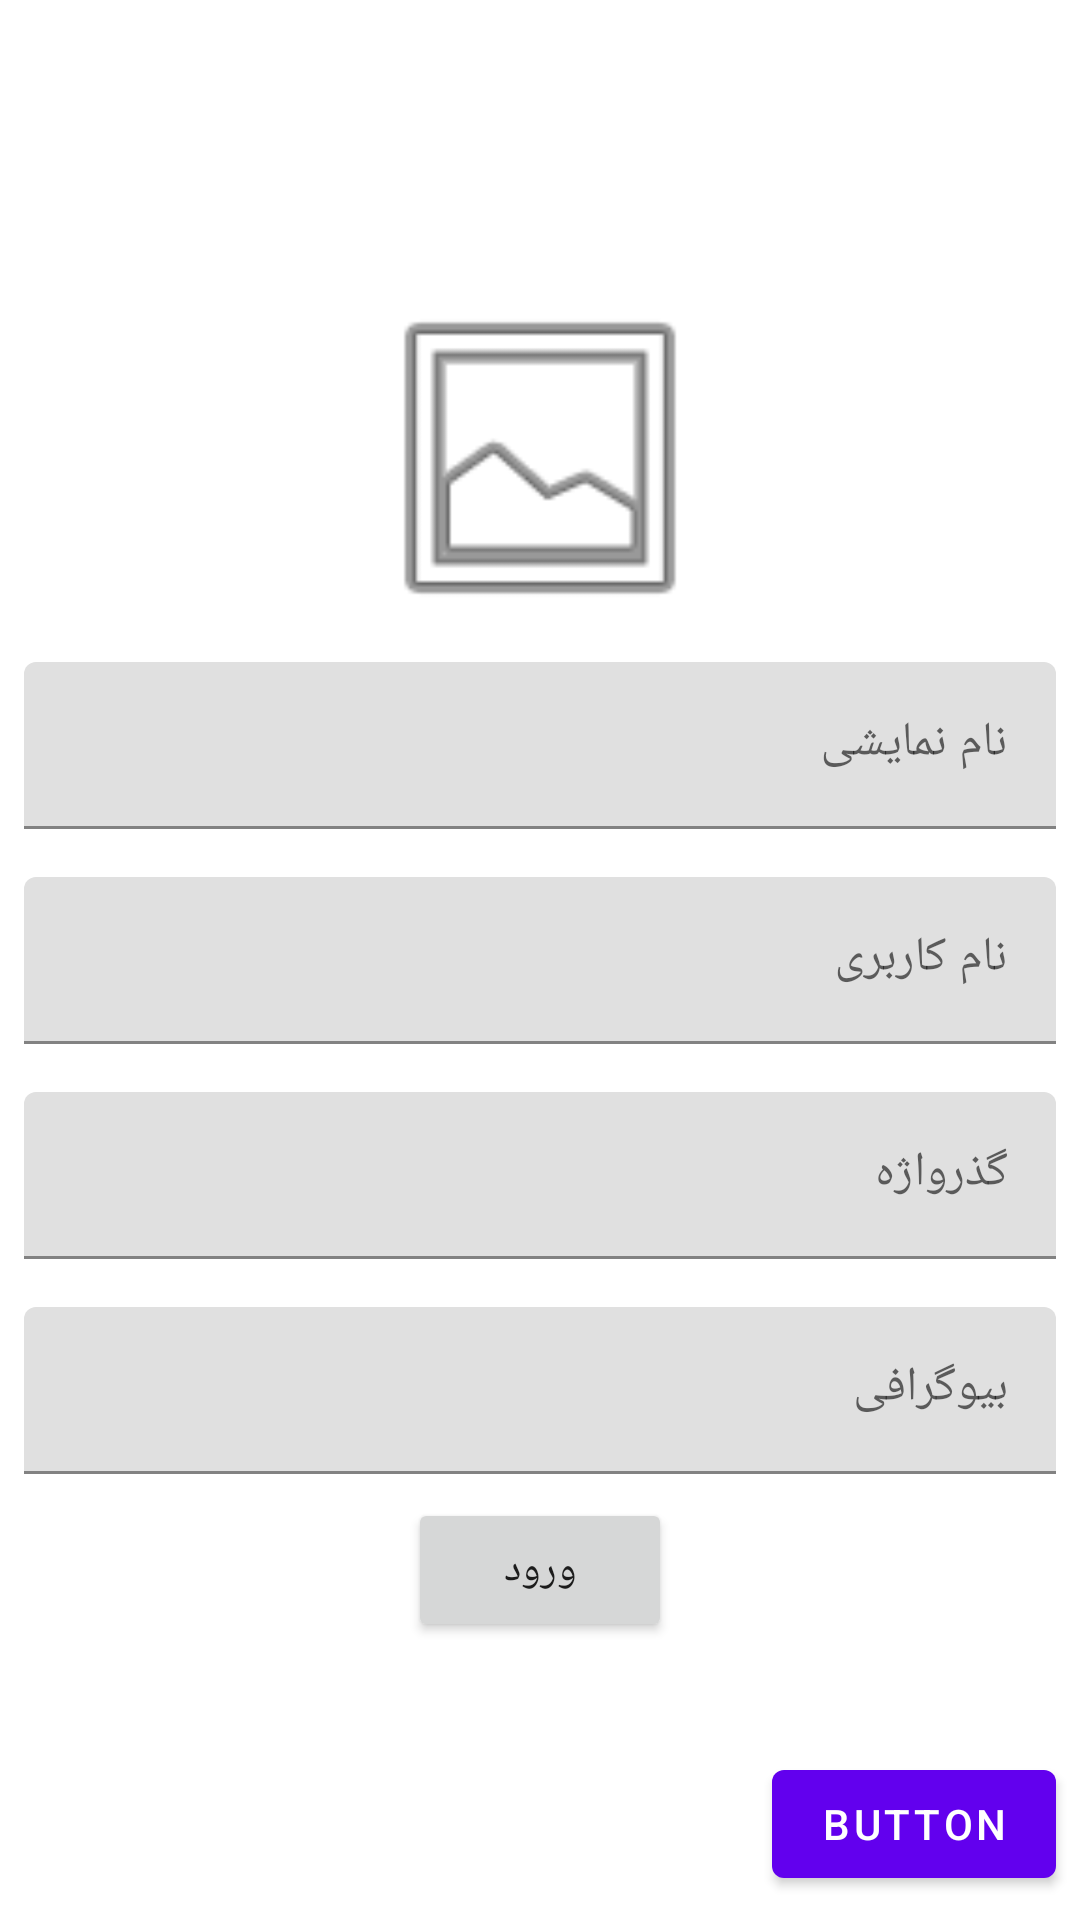

Named icons in this screenshot (1080×1920) and their centers, point (x, y):
gallery: point (540, 458)
